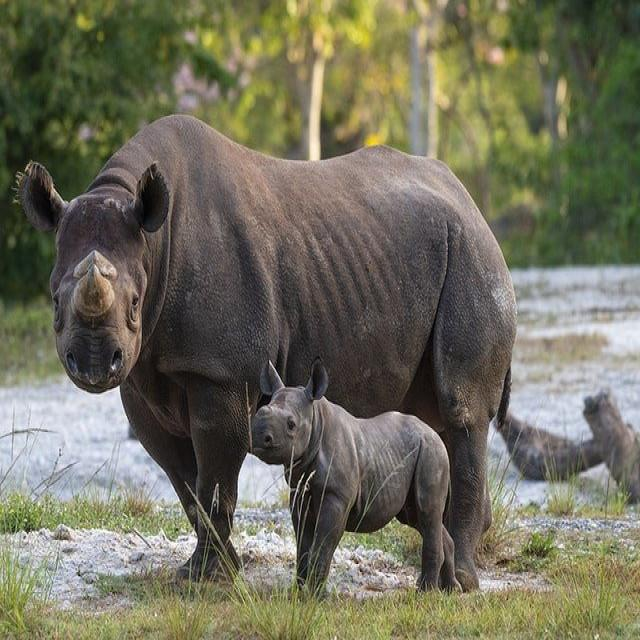rhinoceros: (18, 115, 515, 588), (251, 360, 458, 591)
